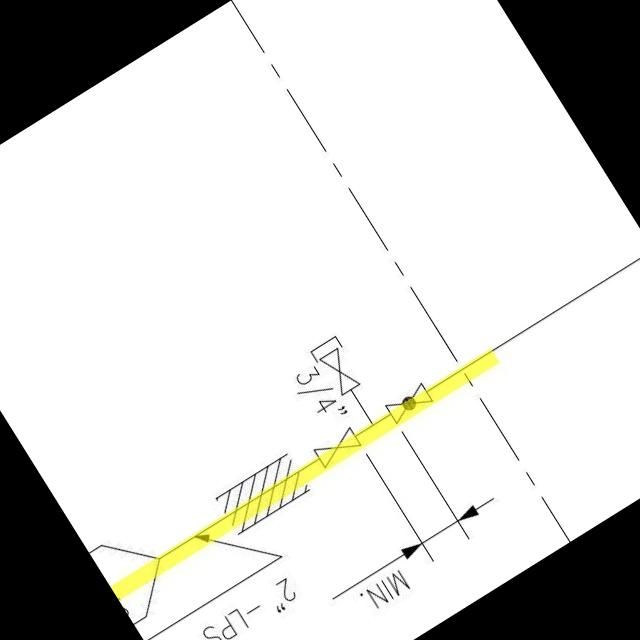BV2: (378, 377, 436, 427)
EC: (302, 326, 378, 414)
GV: (317, 342, 364, 398), (309, 422, 365, 469)
